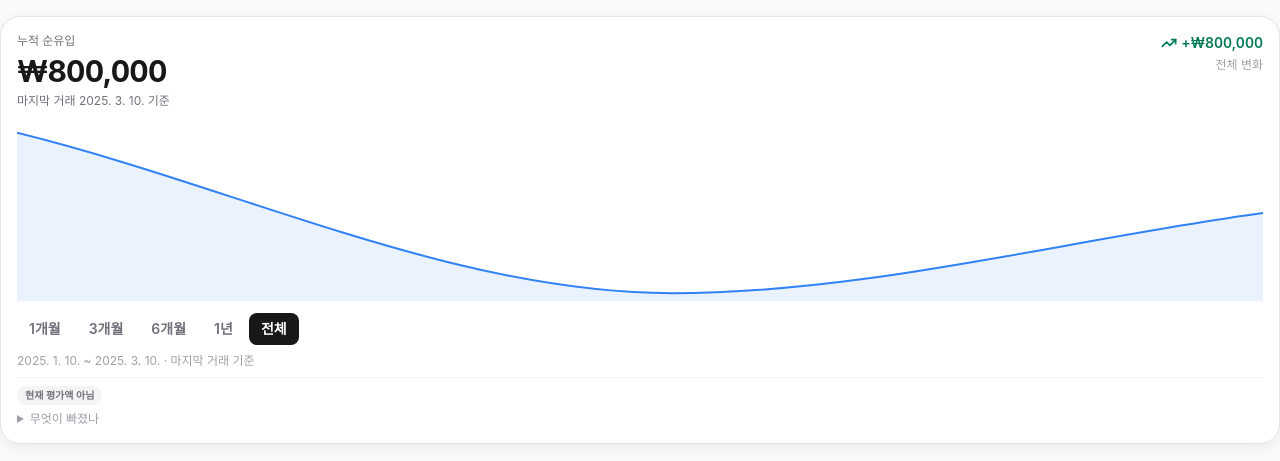
내역 화면의 지갑 이력 그래프 › 기간을 바꾸면 짚고 있던 자리를 놓는다
Press ArrowRight in the element named "선 위 지점 살펴보기", box [17,125,1263,301]
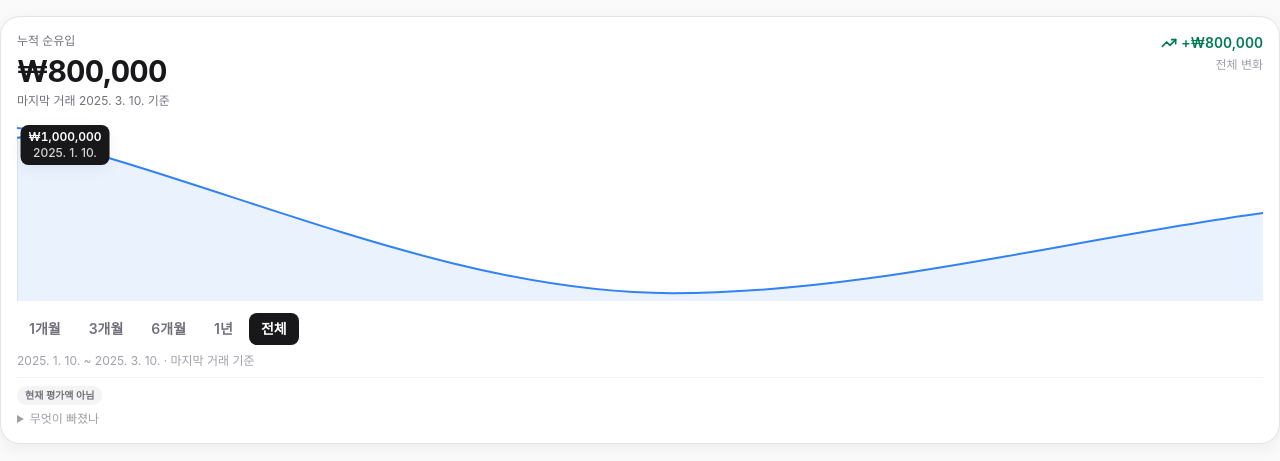
Result: the element with test id "flow-point" is shown at [20,125,109,165]
Click the button "1개월": {"x": 45, "y": 329} [17,313,73,345]
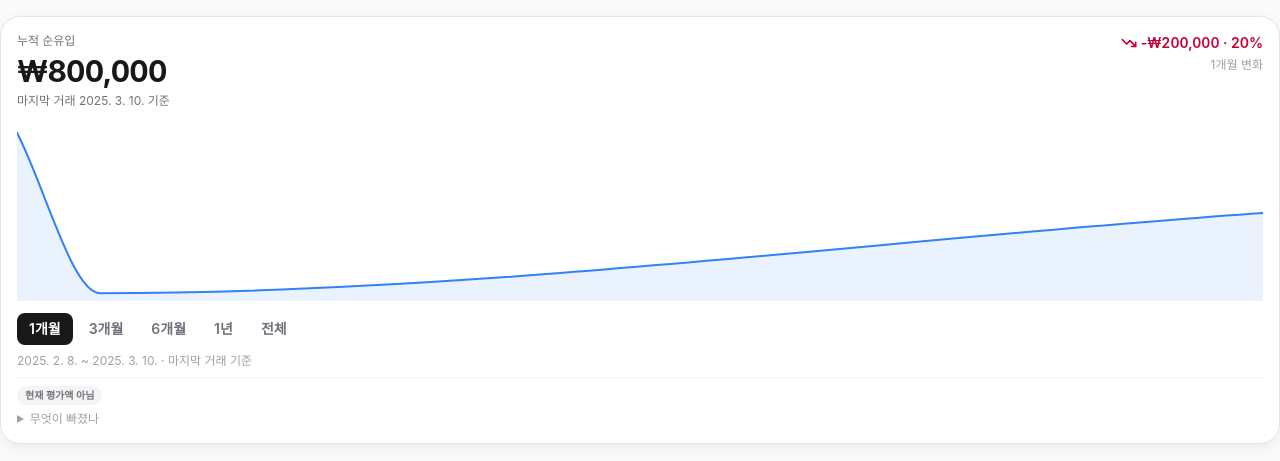
Result: the element with test id "flow-point" is gone
